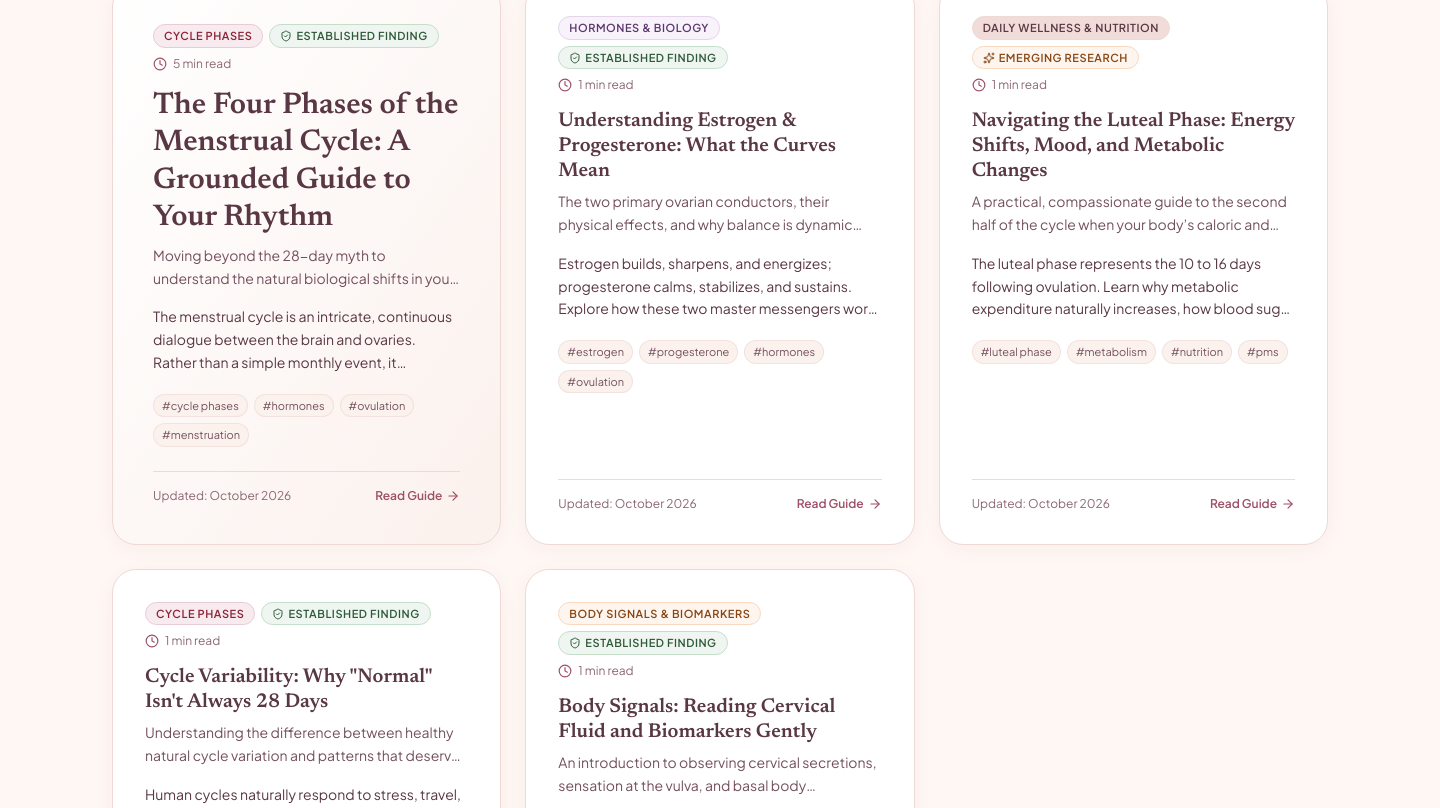
Scenario: Encyclopedia Page Discovery & Functionality › filters articles by topic tag and allows clearing the active tag
(page scrolled)
Click on #ovulation tag in popular topics bar
Click the 2nd button "#ovulation" at x=377, y=405, box left=340, top=394, right=414, bottom=417
(page scrolled)
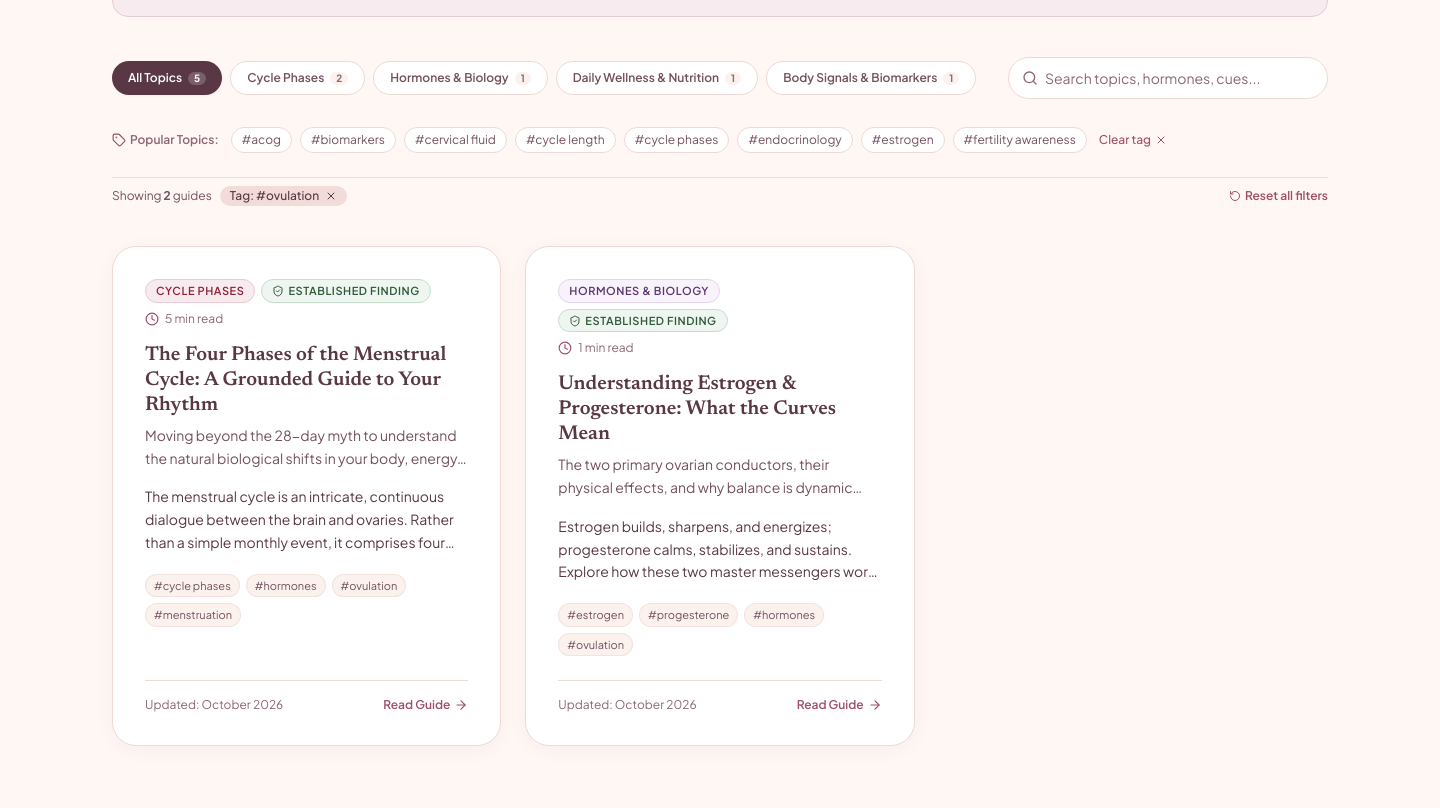
Expected: the link "The Four Phases of the Menstrual Cycle" is shown, left=145, top=345, right=446, bottom=415
Expected: the link "Understanding Estrogen & Progesterone: What the Curves Mean" is shown, left=558, top=374, right=836, bottom=444
Clear tag via clear button
Click the button "Clear tag" at x=1133, y=140, box left=1099, top=132, right=1167, bottom=148
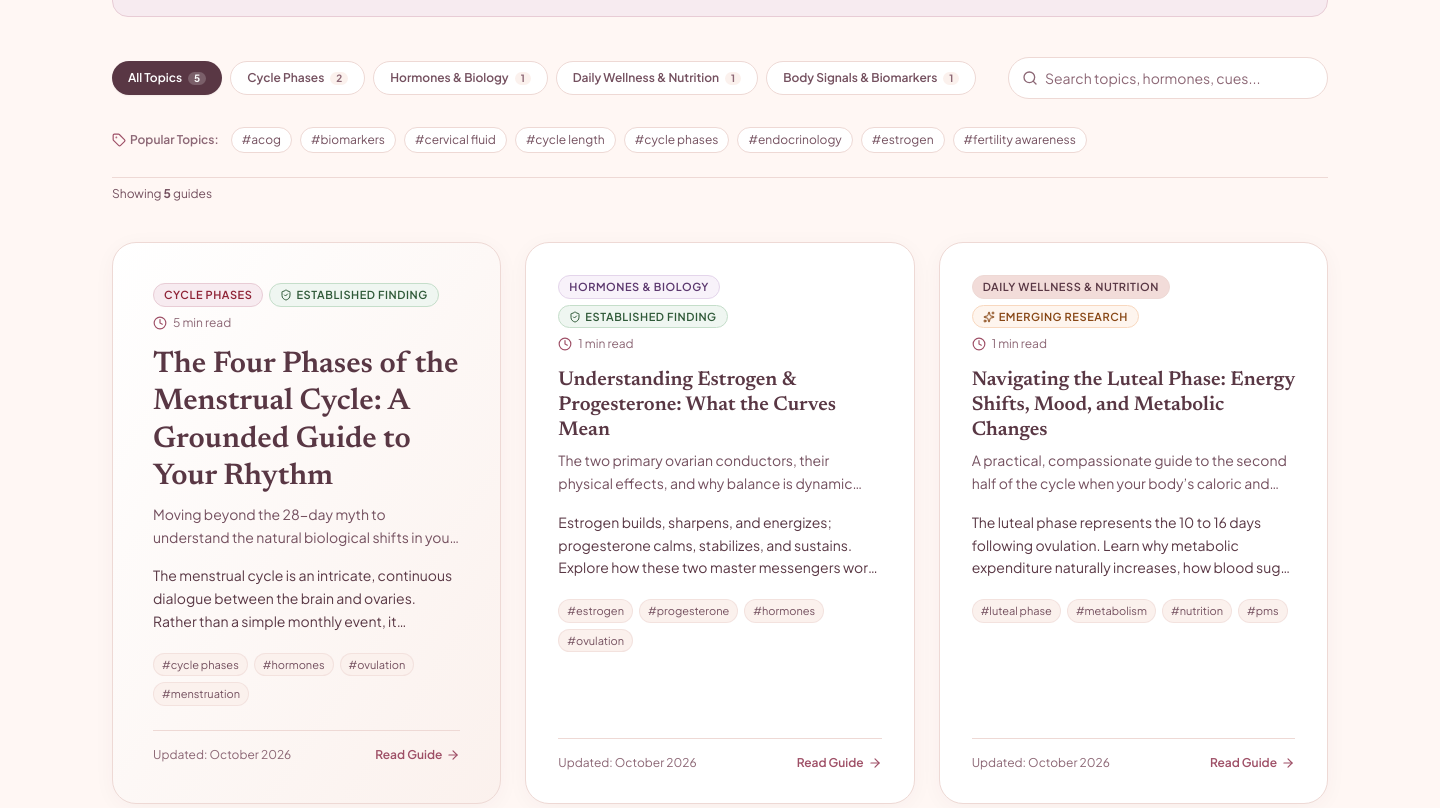
Result: the link "Navigating the Luteal Phase" is shown at left=972, top=370, right=1295, bottom=440
